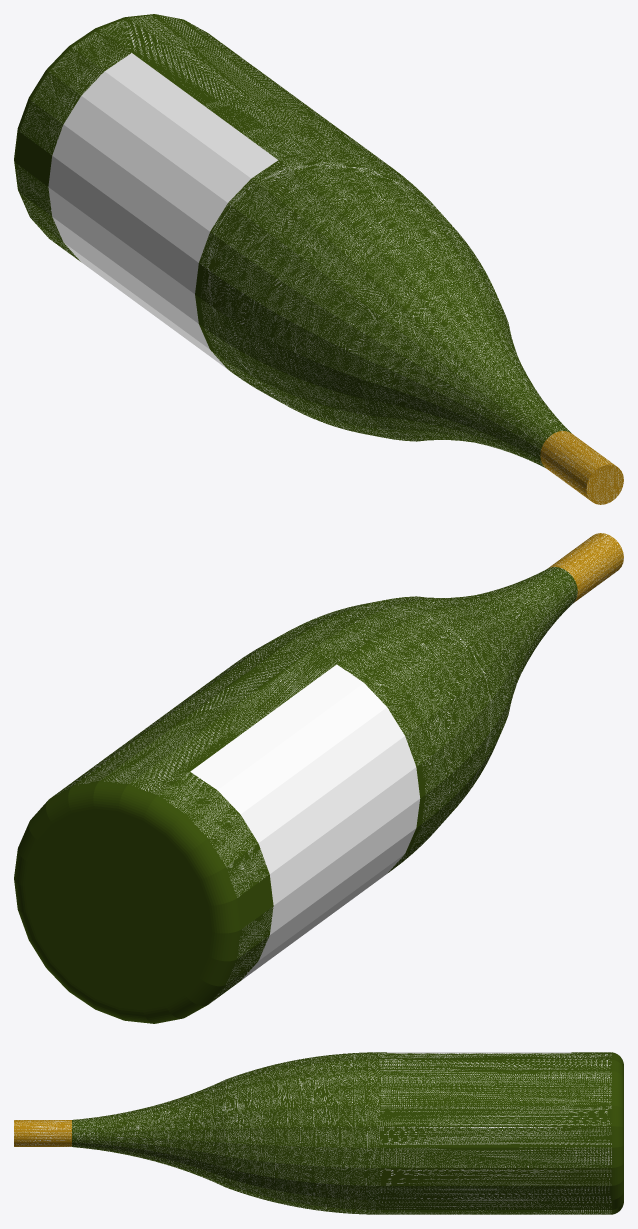
3 views of the same model, one above another, from view 1: azimuth 30°, elevation 25°; view 2: azimuth 150°, elevation 25°; view 3: azimuth 270°, elevation 25° (orthographic). The views are drawn at different scales.
Visible parts, largest first — view 1: wine bottle; view 2: wine bottle; view 3: wine bottle.
Part boxes in pixels (x1,y1,x2,y2): wine bottle: (14, 14, 623, 504); wine bottle: (14, 533, 623, 1023); wine bottle: (14, 1052, 623, 1214).
Bounding box in the file's own units: 3 × 3 × 11.23.
